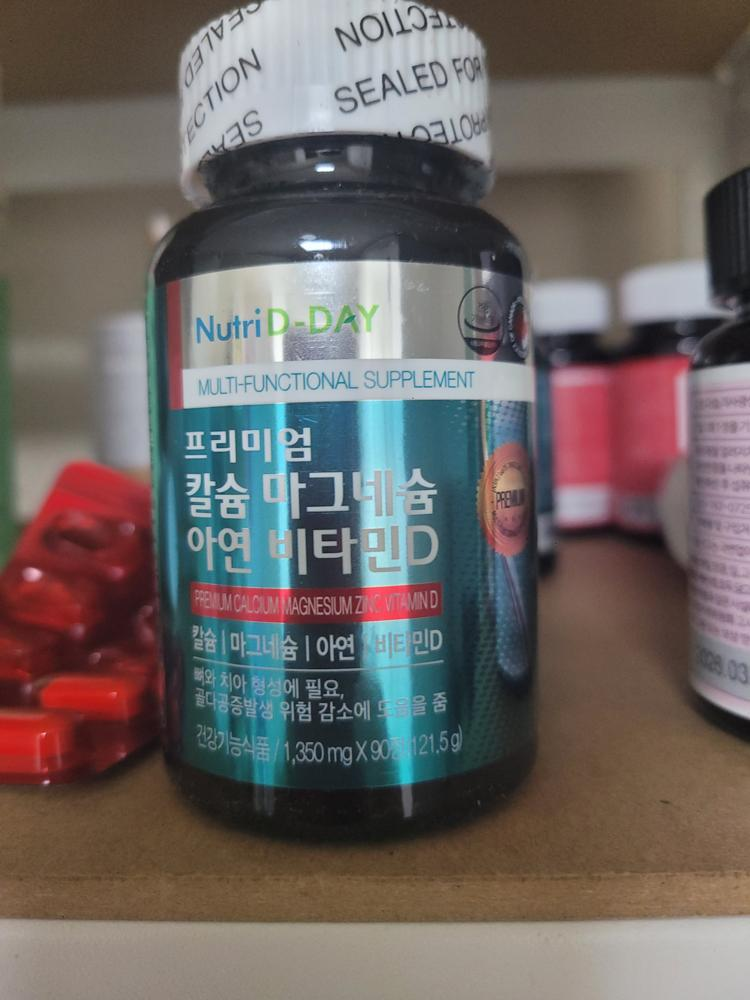supplement_label: (134, 259, 544, 796)
